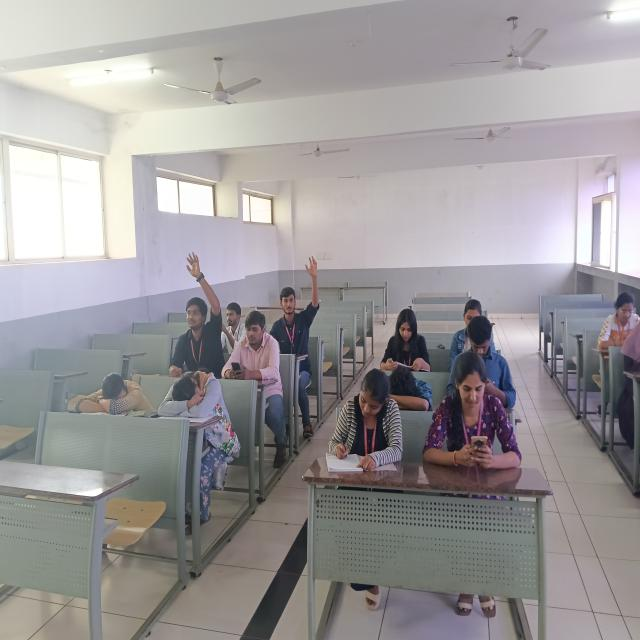Hand Rising: (151, 248, 234, 381), (262, 252, 332, 382)
Reading: (373, 299, 439, 374)
Sleeping: (154, 370, 242, 455), (68, 373, 155, 424), (368, 362, 440, 416)
Using Phone: (423, 353, 532, 487), (224, 310, 282, 404)
Writing: (323, 369, 406, 478)
